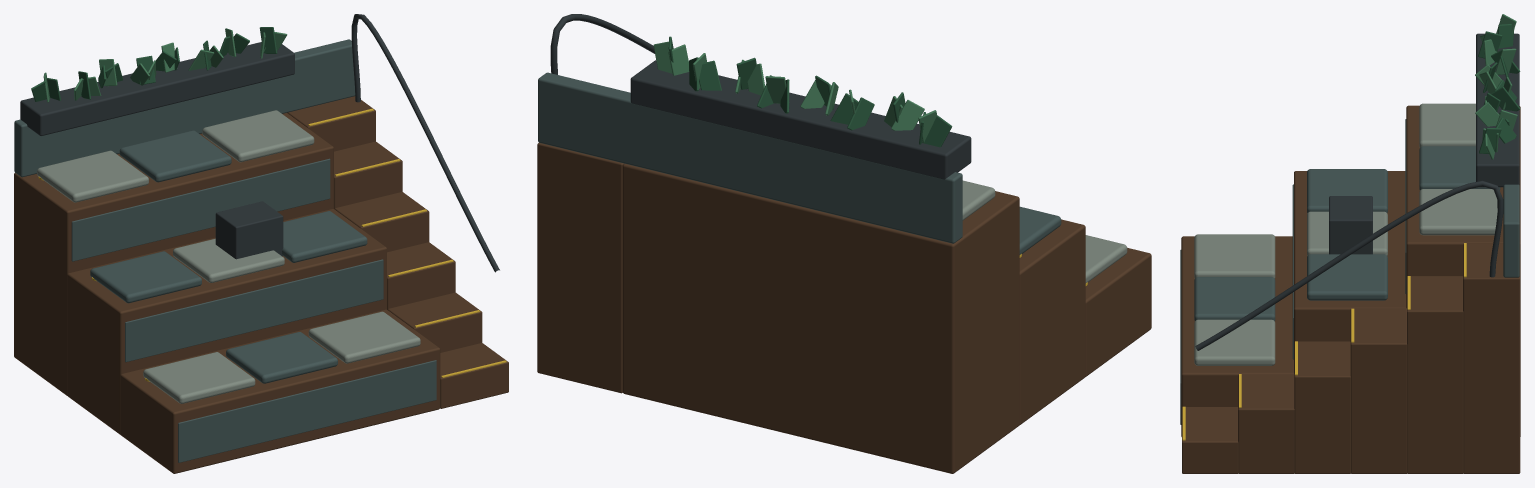
Rendered from campus-bleacher-walnut.glb.
The picture shows the model from 3 angles, left to right: view 1: azimuth 30°, elevation 25°; view 2: azimuth 150°, elevation 25°; view 3: azimuth 270°, elevation 25°; orthographic projection. The views are drawn at different scales.
Bounding box in the file's own units: 2.25 × 1.81 × 1.87.
